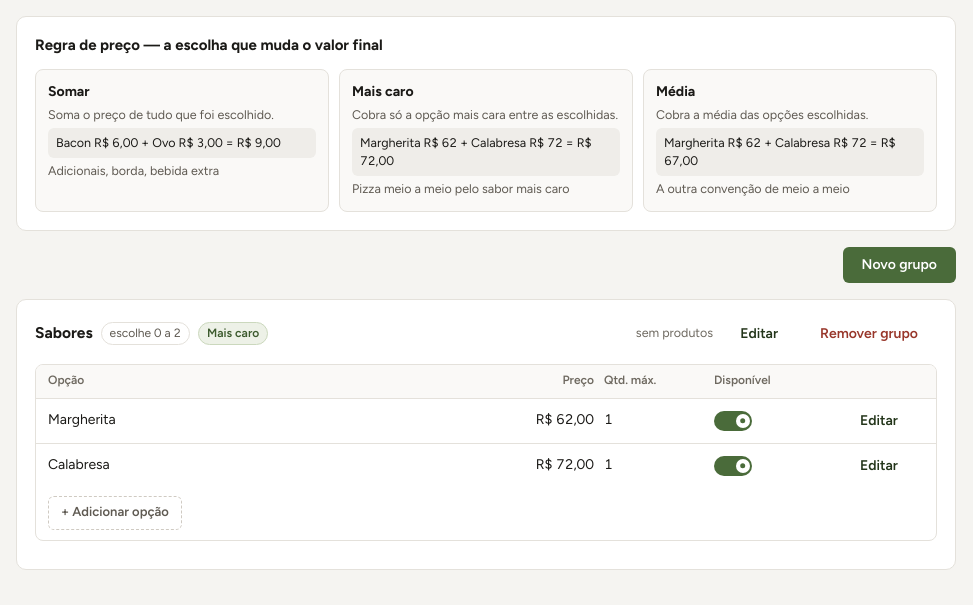
Scenario: OptionGroupsPage (opções) › 'Disponível' volta atrás e mostra o erro quando a API recusa
The width and height of the screenshot is (973, 605).
What coordinates should you click on to do the following:
click the switch named "Disponível: Calabresa"
I would click on:
 (733, 466)
Its box is top-left (714, 456), bottom-right (752, 476).
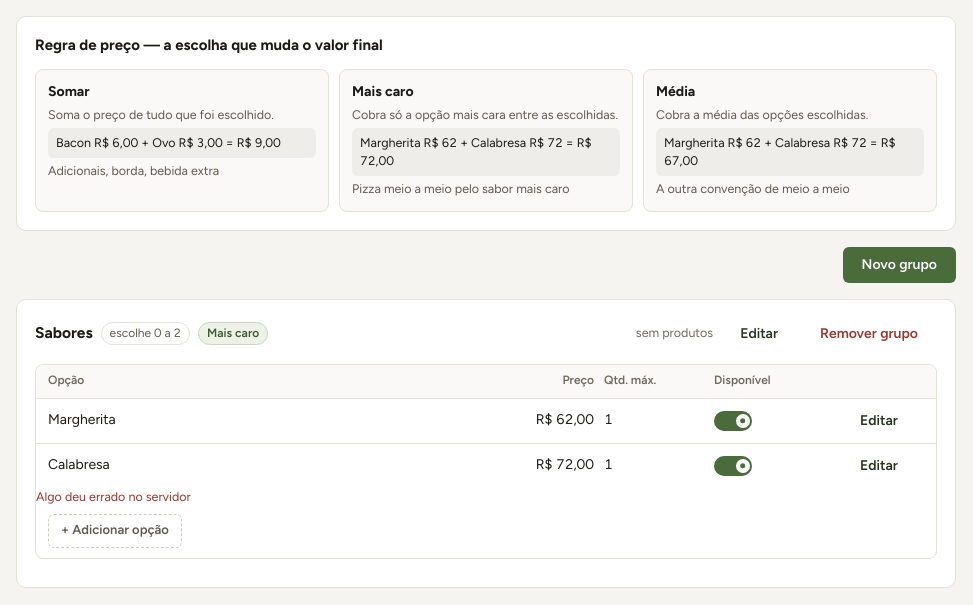
Expected: the text "Algo deu errado no servidor" is shown, top-left (36, 488), bottom-right (191, 504)
